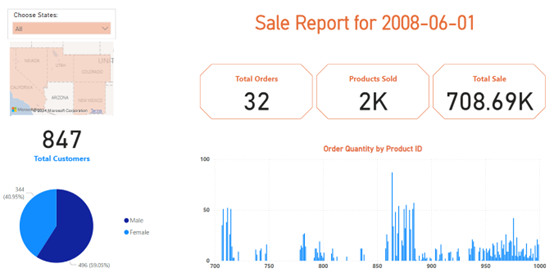

The dashboard page shown, as its layout file describes it:
{"tool":"powerbi","page":{"name":"Page 1","canvas":[1280,720],"ordinal":0},"visuals":[{"type":"cardVisual","title":"Total Customer","fields":{"Data":["Count(Merged-orders&address.sales_order_id)","Sum(Merged-orders&address.order_qty)","Sum(Merged-orders&address.line_total)"]},"box":[477,170.2,759,129.5],"z":0},{"type":"slicer","fields":{"Values":["address.state_province"]},"box":[65.6,55,235,66.5],"z":1000},{"type":"filledMap","fields":{"Category":["Merged-orders&address.state_province"]},"box":[65.6,121.5,235,172],"z":2000},{"type":"card","fields":{"Values":["CountNonNull(Customer.customer_id)"]},"box":[74.5,285.5,218.1,111.7],"z":3000},{"type":"pieChart","title":"Customer Classcification","fields":{"Category":["Customer.Sex"],"Y":["CountNonNull(Customer.Sex)"]},"box":[21.3,409.7,366.2,233.2],"z":4000},{"type":"clusteredColumnChart","title":"Order Quantity by Product ID","fields":{"Category":["Merged-orders&address.product_id"],"Y":["Sum(Merged-orders&address.order_qty)"]},"box":[477,348.5,759,282.9],"z":5000},{"type":"textbox","box":[477,55,728,66.5],"z":6000}]}

Visuals, with their boxes on the page's 1280x720 design canvas (x1, y1, x2, y2). These are canvas units, not pixel positions in the 554x277 screenshot, which may show the page scaled, cropped or inside an application window:
"Total Customer" cardVisual: 477 170 1236 300
slicer - address.state_province: 66 55 301 122
filledMap - Merged-orders&address.state_province: 66 122 301 294
card - CountNonNull(Customer.customer_id): 74 286 293 397
"Customer Classcification" pieChart: 21 410 388 643
"Order Quantity by Product ID" clusteredColumnChart: 477 348 1236 631
textbox: 477 55 1205 122
